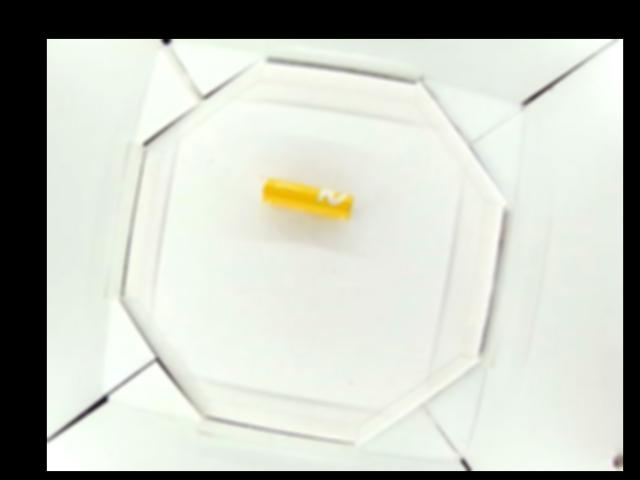Battery: (262, 178, 354, 216)
